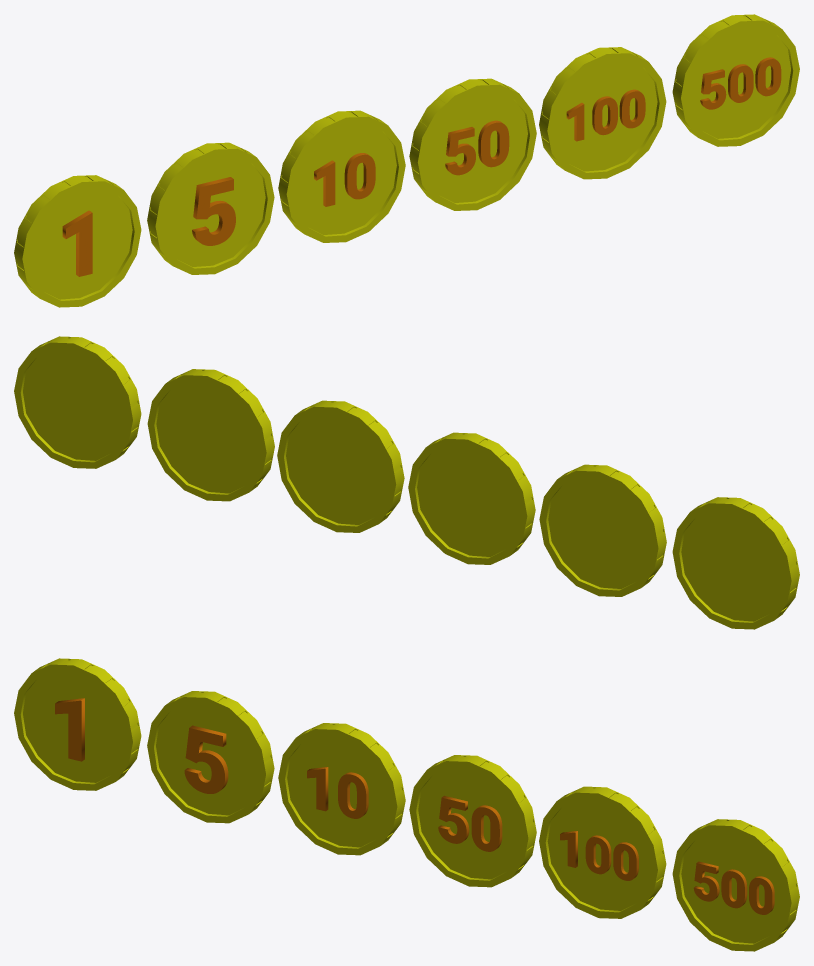
Rendered from coins 1.fbx.
3 renders of one model, top to bottom at view 1: azimuth 30°, elevation 25°; view 2: azimuth 150°, elevation 25°; view 3: azimuth 330°, elevation 25°, orthographic.
Parts seen in each view (by area): view 1: coin 1, coin 10, coin 100, coin 5, coin 50, coin 500, Coin_500, Coin_50, Coin_5, Coin_100, Coin_10, Coin_1; view 2: coin 100, coin 500, coin 1, coin 50, coin 10, coin 5; view 3: coin 1, coin 10, coin 100, coin 5, coin 50, coin 500, Coin_500, Coin_50, Coin_5, Coin_100, Coin_10, Coin_1.
Part boxes in pixels (<box>): coin 1: <box>14,175,141,307</box>; coin 10: <box>278,110,405,242</box>; coin 100: <box>539,47,666,179</box>; coin 5: <box>147,142,274,274</box>; coin 50: <box>409,78,536,210</box>; coin 500: <box>672,14,799,146</box>; Coin_500: <box>700,57,781,109</box>; Coin_50: <box>445,120,509,175</box>; Coin_5: <box>192,177,235,245</box>; Coin_100: <box>566,89,645,141</box>; Coin_10: <box>314,153,375,206</box>; Coin_1: <box>62,210,92,276</box>; coin 100: <box>147,369,274,501</box>; coin 500: <box>14,336,141,468</box>; coin 1: <box>672,497,799,629</box>; coin 50: <box>277,400,404,532</box>; coin 10: <box>408,432,535,564</box>; coin 5: <box>539,464,666,596</box>; coin 1: <box>14,658,141,790</box>; coin 10: <box>278,723,405,855</box>; coin 100: <box>539,786,666,918</box>; coin 5: <box>147,691,274,823</box>; coin 50: <box>409,755,536,887</box>; coin 500: <box>672,819,799,951</box>; Coin_500: <box>693,861,774,914</box>; Coin_50: <box>438,795,502,851</box>; Coin_5: <box>184,725,228,793</box>; Coin_100: <box>560,831,638,880</box>; Coin_10: <box>307,767,368,818</box>; Coin_1: <box>55,698,84,761</box>.
Size of the model in its own units: 1306 by 200 by 28.01.
